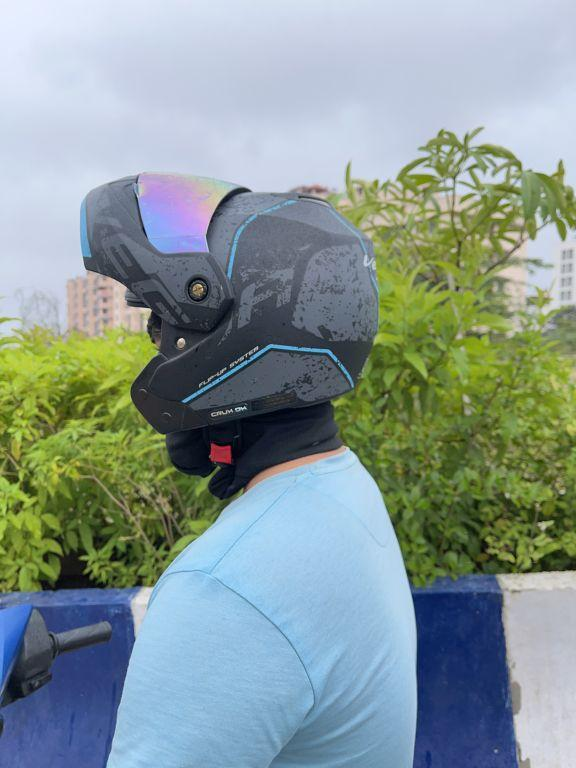helmet: (69, 154, 390, 457)
